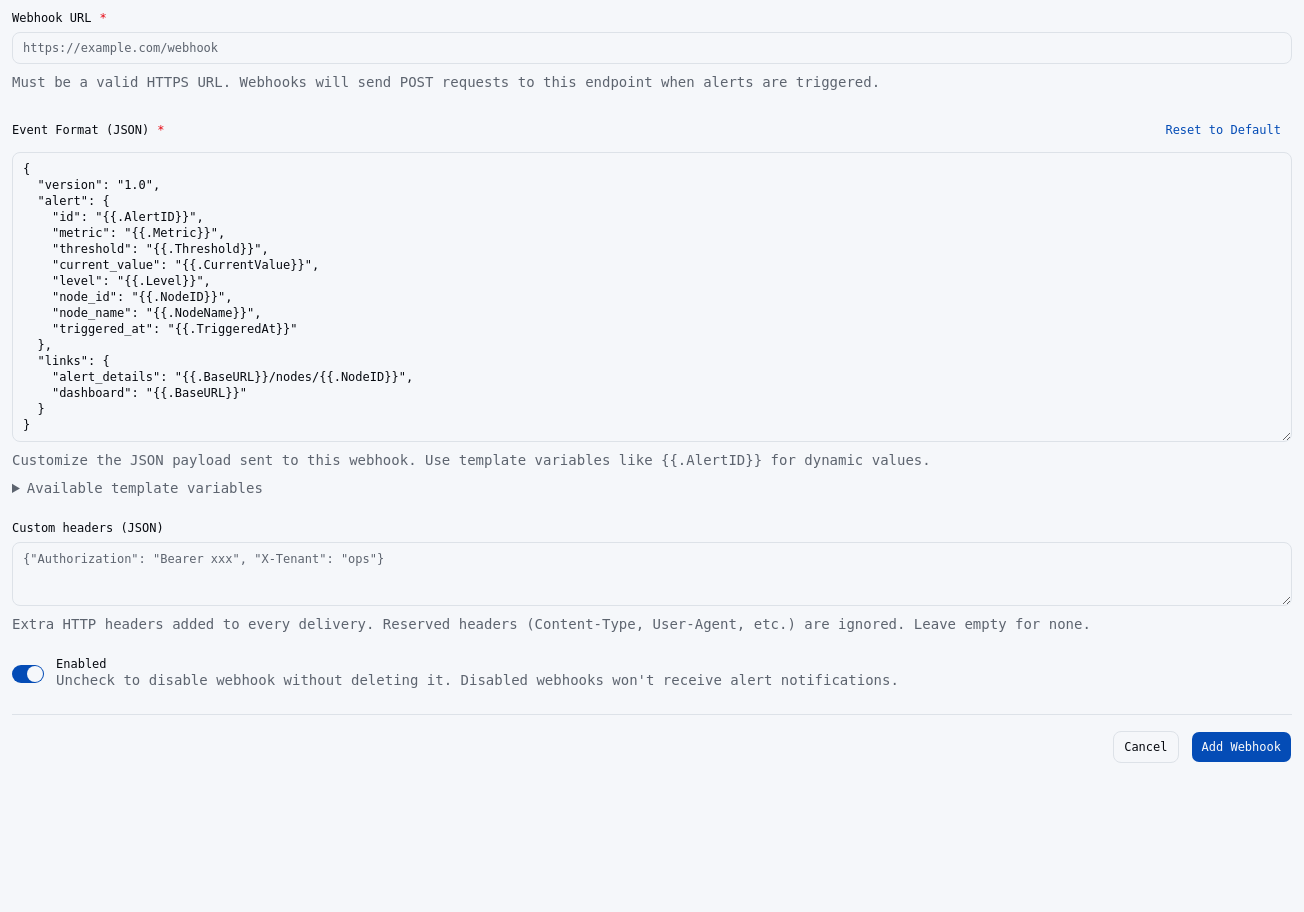
WebhookForm › validates HTTPS URL - rejects HTTP
The width and height of the screenshot is (1304, 912).
Type "http://example.com/webhook" into the field labelled "Webhook URL *" at {"x": 652, "y": 48}, box [12, 32, 1292, 64]
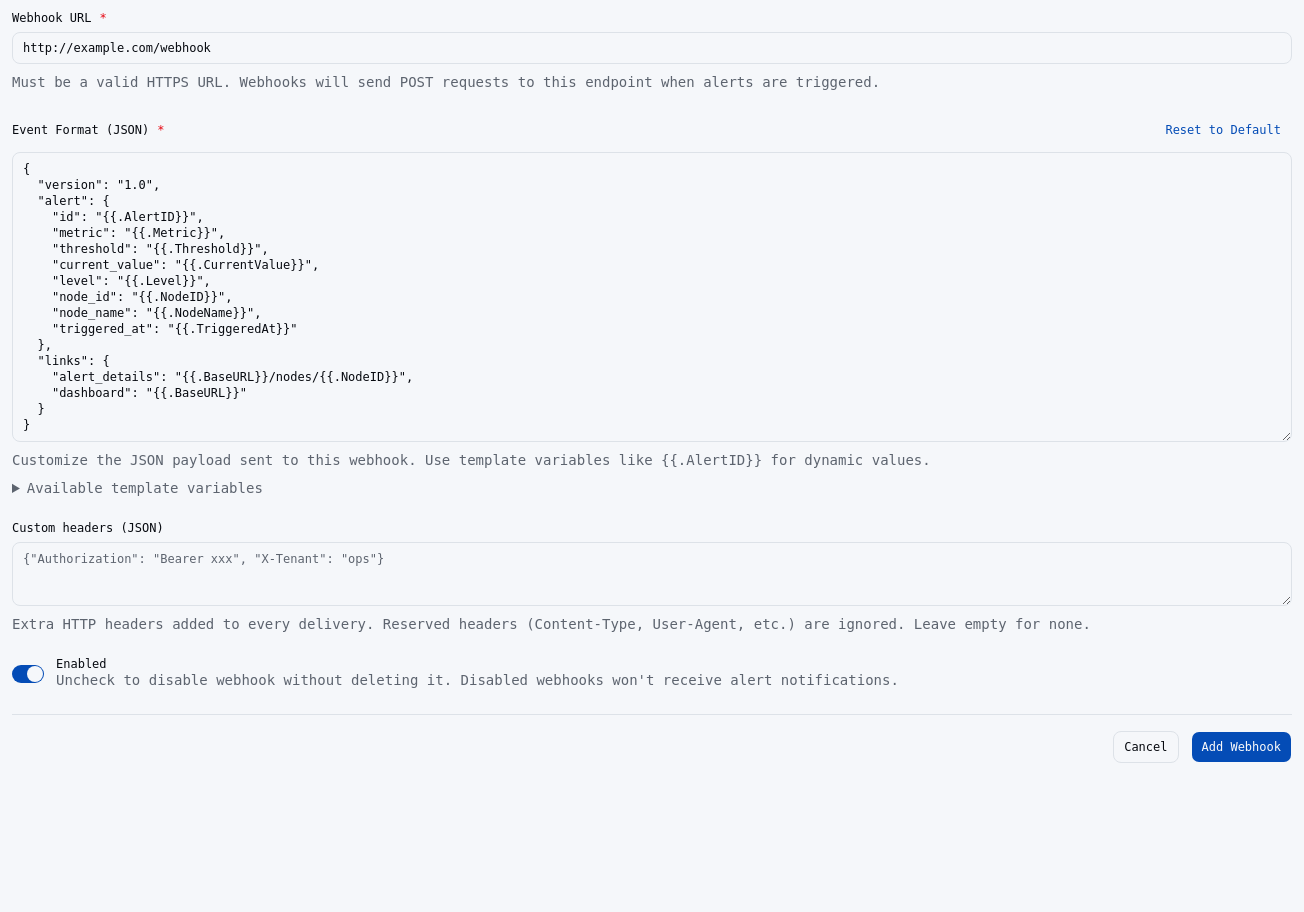
Click the button "Add Webhook" at {"x": 1241, "y": 747}, box [1190, 731, 1292, 763]
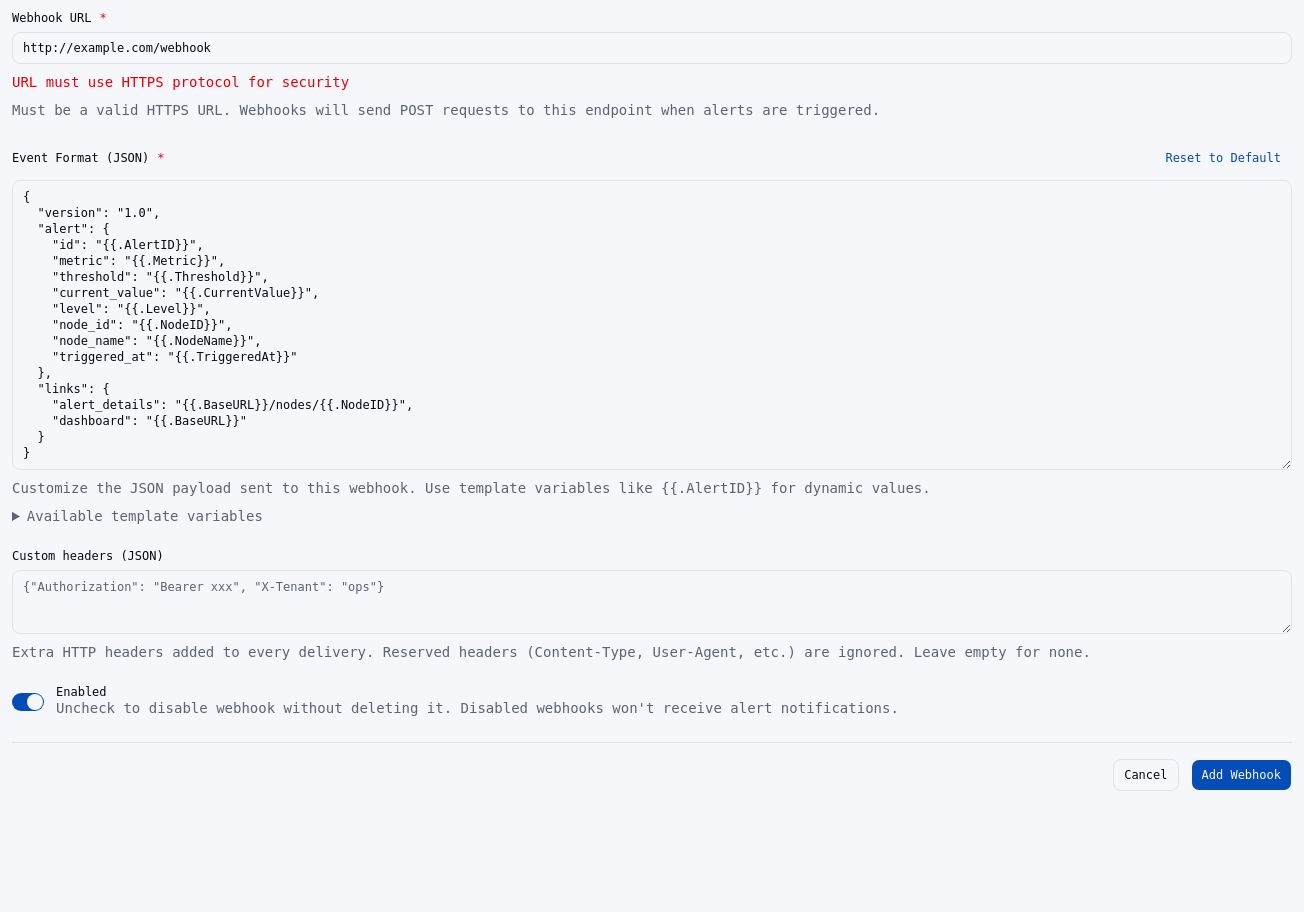
Check: the text "URL must use HTTPS protocol for security" is shown, box [12, 74, 349, 90]
